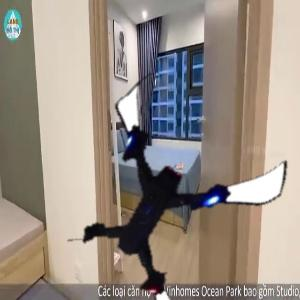drone: (58, 85, 269, 296)
